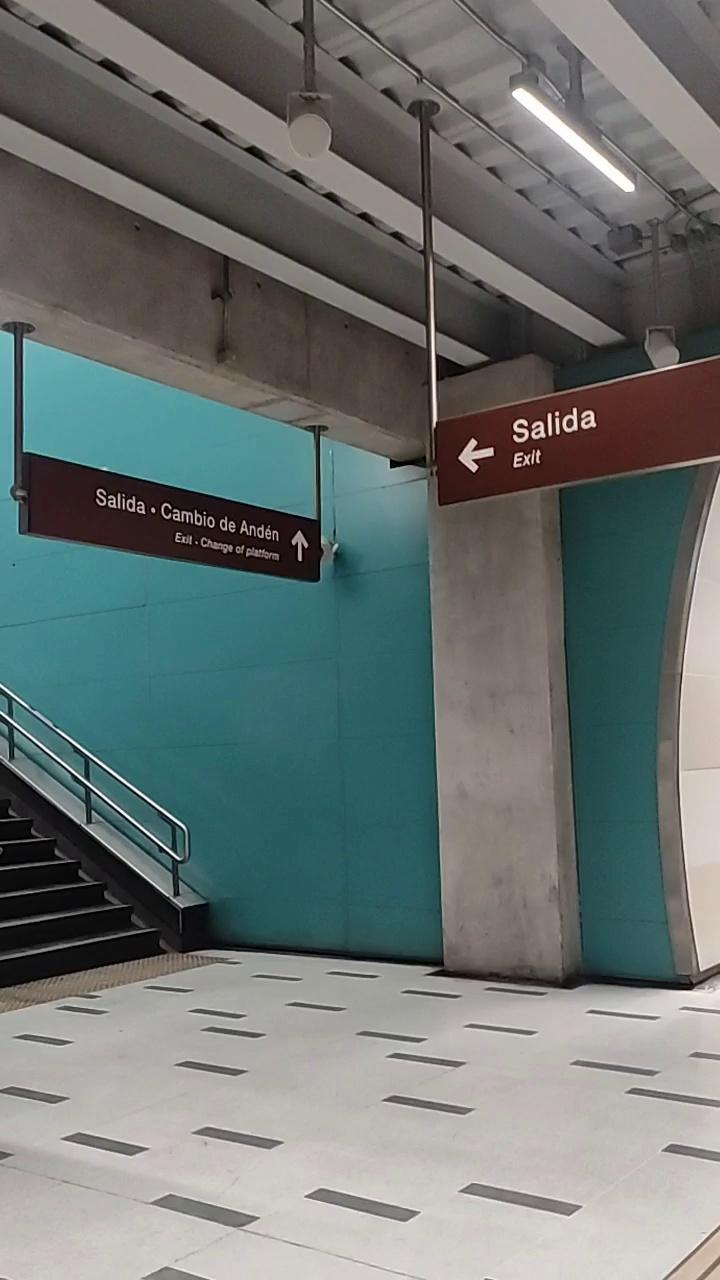left arrow: (446, 430, 506, 484)
up arrow: (282, 522, 313, 568)
